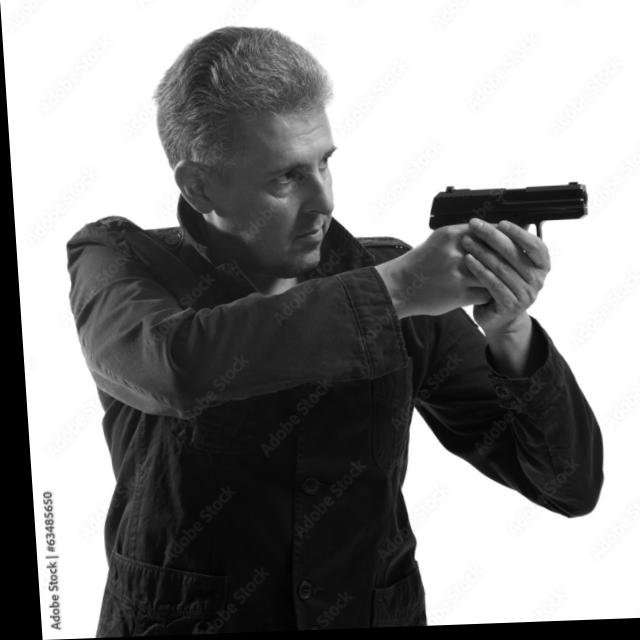handgun: (424, 181, 592, 247)
